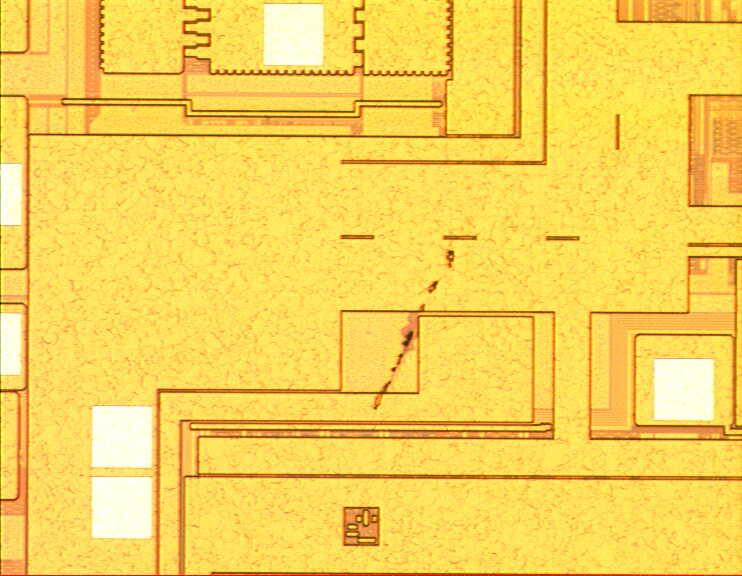SCRATCH: (362, 223, 480, 423)
